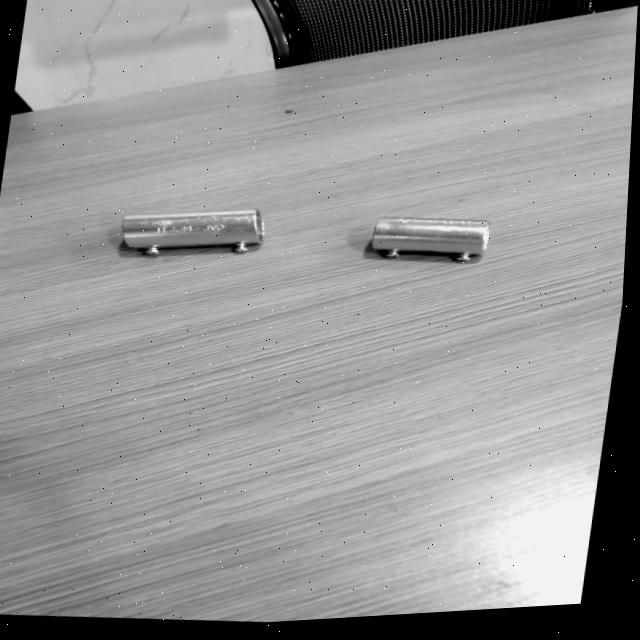Co_Lon: (121, 209, 265, 256)
Co_Nho: (369, 216, 489, 263)
